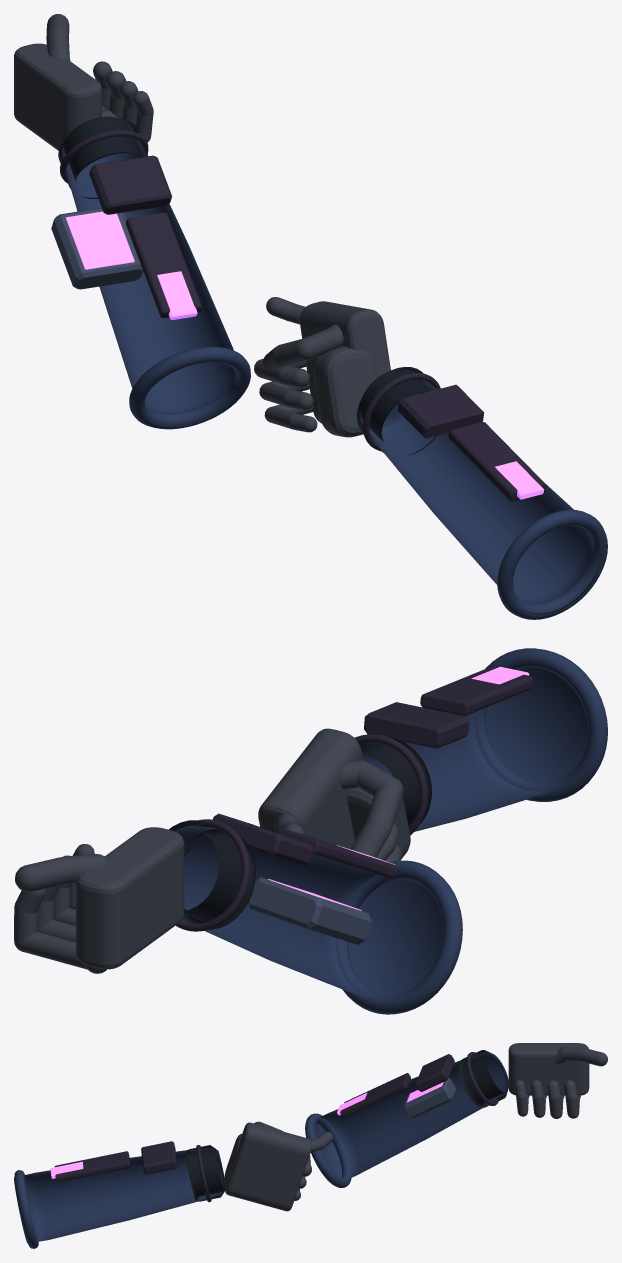
The model's file is hands_specter.glb.
3 views of the same model, one above another, from view 1: azimuth 30°, elevation 25°; view 2: azimuth 150°, elevation 25°; view 3: azimuth 270°, elevation 25° (orthographic). The views are drawn at different scales.
Visible parts, largest first — view 1: hand_r_forearm, hand_l_forearm, hand_l_palm, hand_r_sleeve_roll, hand_l_sleeve_roll, hand_r_heel, hand_r_palm, hand_l_cuff_plate, hand_l_forearm_plate, hand_r_cuff_plate, hand_l_scanner, hand_l_screen (+12 smaller); view 2: hand_l_forearm, hand_r_forearm, hand_l_palm, hand_r_palm, hand_r_sleeve_roll, hand_l_sleeve_roll, hand_l_scanner, hand_l_cuff, hand_r_cuff_plate, hand_r_thumb, hand_r_forearm_plate, hand_l_finger3 (+10 smaller); view 3: hand_r_forearm, hand_l_forearm, hand_r_palm, hand_l_palm, hand_l_sleeve_roll, hand_r_cuff, hand_l_cuff, hand_r_forearm_plate, hand_r_sleeve_roll, hand_l_forearm_plate, hand_l_scanner, hand_r_cuff_plate (+8 smaller).
Boxes of the visible parts, x1,y1,x2,y2 form: hand_r_forearm: (360,370,602,614); hand_l_forearm: (62,116,243,427); hand_l_palm: (14,43,101,150); hand_r_sleeve_roll: (497,509,607,619); hand_l_sleeve_roll: (129,346,250,429); hand_r_heel: (313,346,376,437); hand_r_palm: (299,301,392,424); hand_l_cuff_plate: (89,155,171,214); hand_l_forearm_plate: (125,212,201,318); hand_r_cuff_plate: (398,384,484,438); hand_l_scanner: (51,208,143,289); hand_l_screen: (66,211,134,269); hand_l_forearm: (174,826,443,998); hand_r_forearm: (362,664,588,831); hand_l_palm: (76,827,184,969); hand_r_palm: (258,728,363,849); hand_r_sleeve_roll: (474,648,607,801); hand_l_sleeve_roll: (335,860,462,1014); hand_l_scanner: (248,877,371,944); hand_l_cuff: (169,820,255,929); hand_r_cuff_plate: (364,702,469,748); hand_r_thumb: (340,760,403,857); hand_r_forearm_plate: (420,667,533,715); hand_l_finger3: (14,888,87,969); hand_r_forearm: (14,1148,225,1242); hand_l_forearm: (315,1052,508,1179); hand_r_palm: (225,1122,311,1211); hand_l_palm: (508,1043,589,1095); hand_l_sleeve_roll: (305,1113,351,1187); hand_r_cuff: (186,1145,224,1201); hand_l_cuff: (458,1050,508,1107); hand_r_forearm_plate: (54,1151,130,1182); hand_r_sleeve_roll: (14,1170,38,1248); hand_l_forearm_plate: (340,1073,410,1117); hand_l_scanner: (403,1078,456,1118); hand_r_cuff_plate: (141,1141,177,1174).
Size of the model in its own units: 0.2032 by 0.2363 by 0.708.
